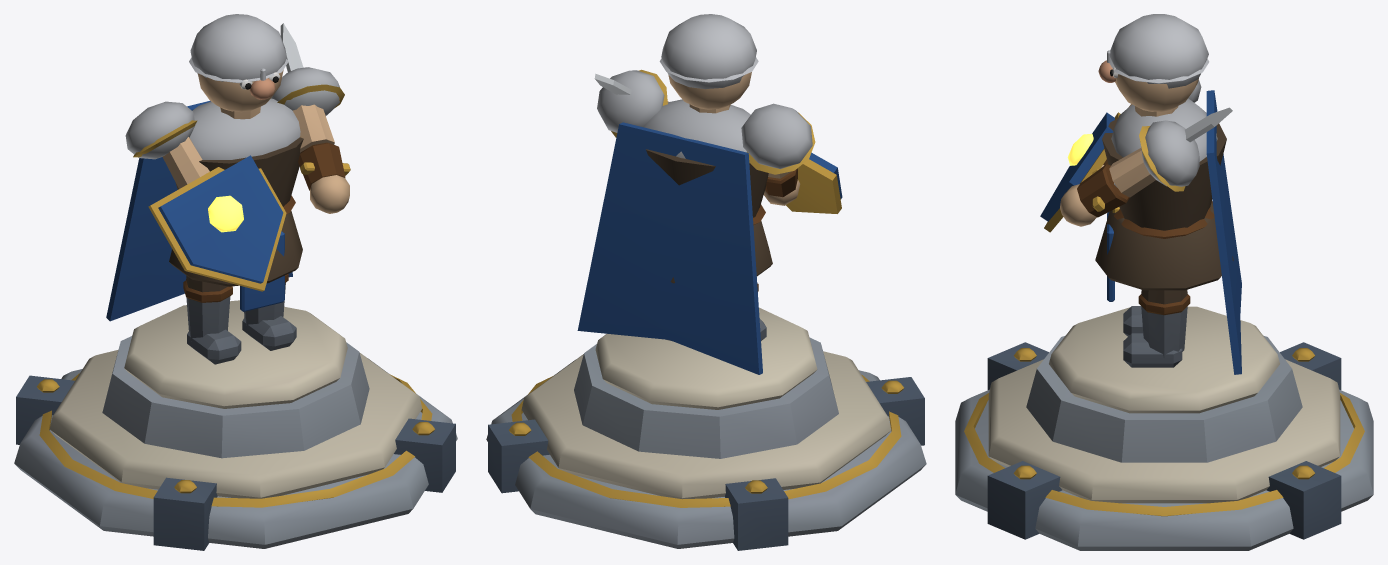
The model's file is alliance_7.glb.
3 views of the same model, side by side, from view 1: azimuth 30°, elevation 25°; view 2: azimuth 150°, elevation 25°; view 3: azimuth 270°, elevation 25° (orthographic).
Visible parts, largest first — view 1: alliance_7_peint, Buste_peint, ArmeG_peint, Crane_peint, BrasD_peint, BrasG_peint, JambeG_peint, JambeD_peint, Embleme, Arme_peint; view 2: alliance_7_peint, Buste_peint, Crane_peint, BrasG_peint, BrasD_peint, ArmeG_peint; view 3: alliance_7_peint, Buste_peint, Crane_peint, BrasD_peint, JambeD_peint, ArmeG_peint, Arme_peint, JambeG_peint.
Part boxes in pixels (x1,y1,x2,y2): alliance_7_peint: (14, 300, 457, 550); Buste_peint: (106, 98, 303, 321); ArmeG_peint: (148, 155, 286, 291); Crane_peint: (189, 14, 288, 112); BrasD_peint: (271, 67, 349, 213); BrasG_peint: (125, 101, 209, 188); JambeG_peint: (183, 275, 241, 364); JambeD_peint: (242, 274, 296, 350); Embleme: (208, 195, 243, 232); Arme_peint: (280, 23, 350, 175); alliance_7_peint: (486, 307, 926, 550); Buste_peint: (577, 99, 772, 374); Crane_peint: (659, 14, 758, 109); BrasG_peint: (741, 103, 815, 205); BrasD_peint: (597, 69, 668, 137); ArmeG_peint: (786, 152, 842, 213); alliance_7_peint: (955, 306, 1373, 550); Buste_peint: (1095, 90, 1241, 374); Crane_peint: (1098, 14, 1209, 111); BrasD_peint: (1060, 120, 1199, 226); JambeD_peint: (1123, 290, 1190, 367); ArmeG_peint: (1040, 112, 1120, 232); Arme_peint: (1092, 107, 1232, 211); JambeG_peint: (1123, 306, 1143, 336).
Size of the model in its own units: 0.7869 by 0.9245 by 0.7869.
